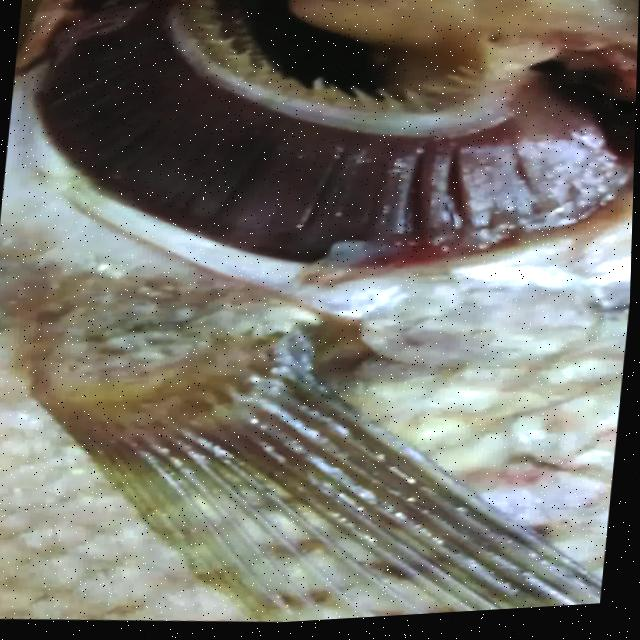Non-Fresh: (10, 0, 640, 319)
